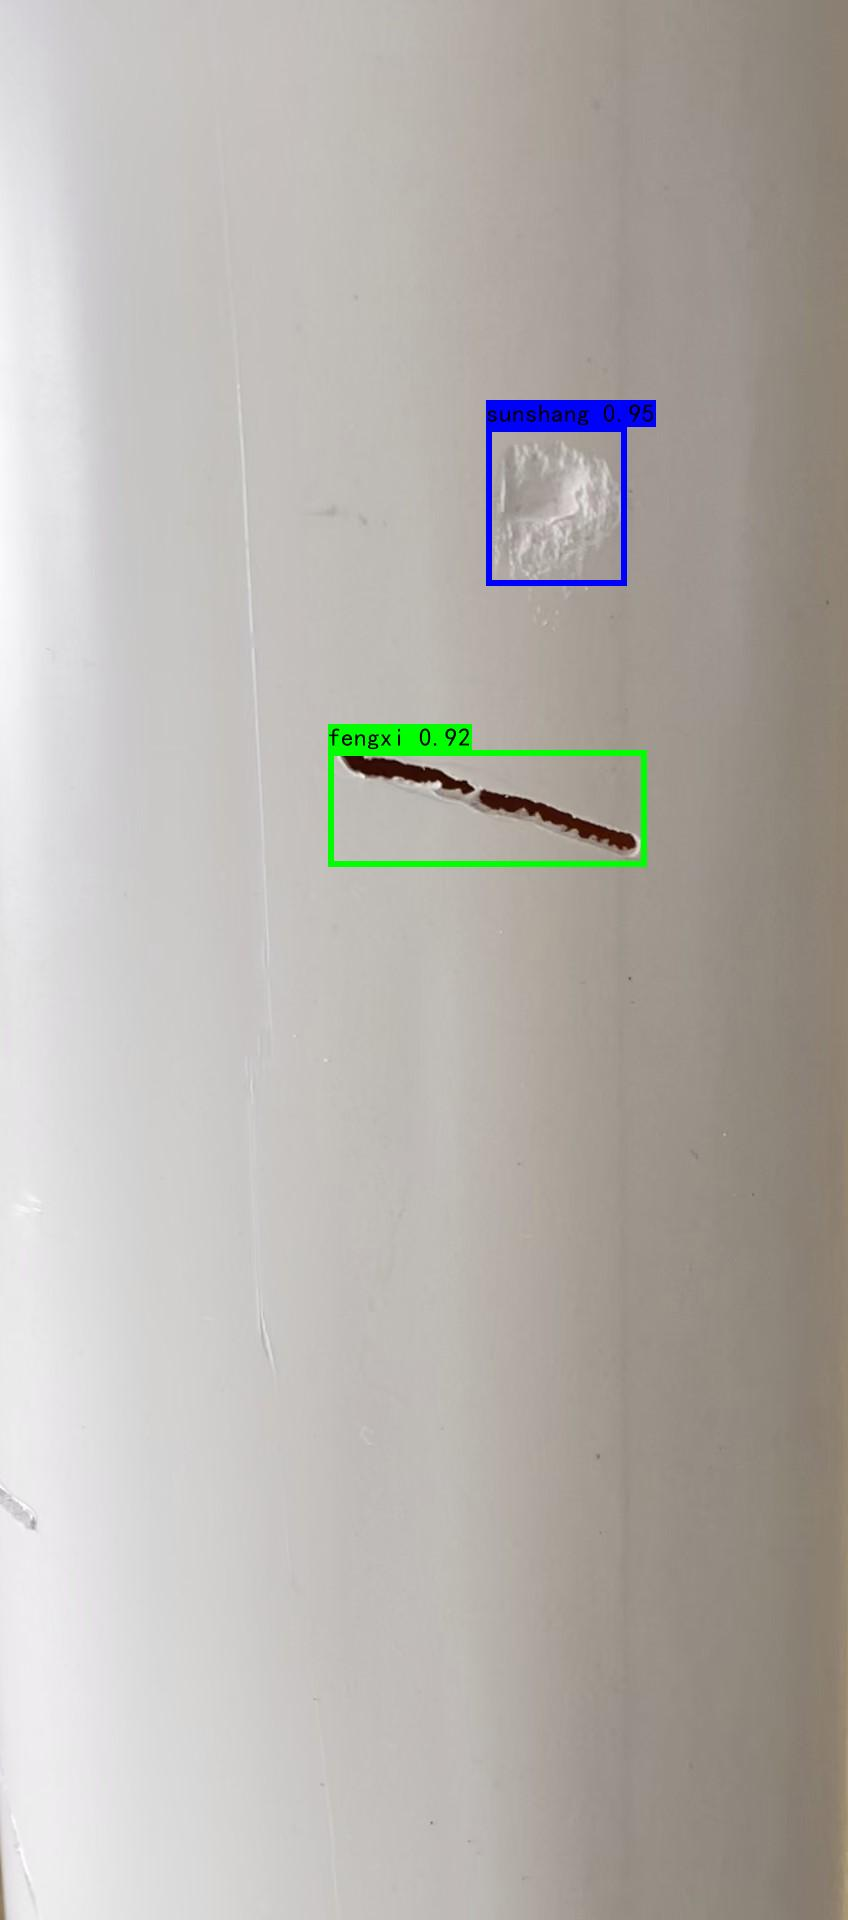fengxi: (325, 715, 653, 863)
sunshang: (489, 426, 633, 595)
